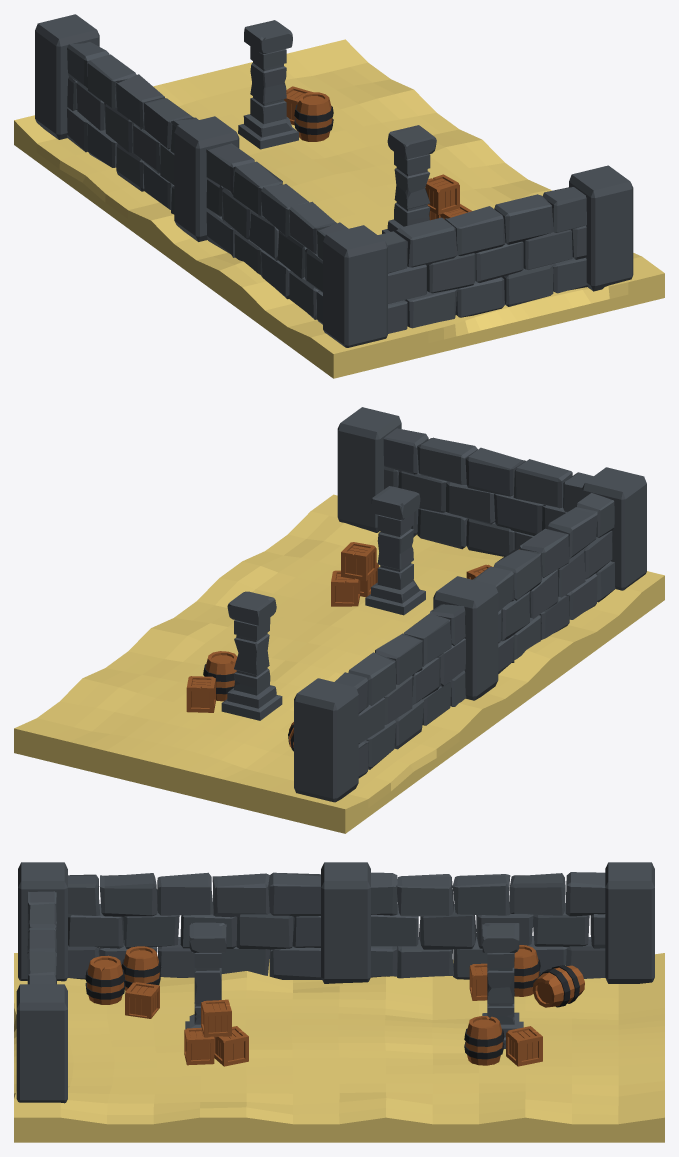
File: Desert Props.fbx
3 views of the same model, one above another, from view 1: azimuth 30°, elevation 25°; view 2: azimuth 150°, elevation 25°; view 3: azimuth 270°, elevation 25° (orthographic).
Parts seen in each view (by area): view 1: Cube.006, Cube.003, Cube.004, Cube.005, Cube, Cylinder.004, Cube.008; view 2: Cube.006, Cube.003, Cube.004, Cube, Cube.005, Cube.008, Cylinder.004, Cube.010, Cube.007; view 3: Cube.006, Cube.003, Cube.004, Cube.005, Cube, Cylinder.003, Cylinder.004, Cylinder, Cylinder.001, Cube.010, Cylinder.002, Cube.001 (+4 smaller).
Part boxes in pixels (left/top/right/bottom): Cube.006: left=14, top=39, right=664, bottom=378; Cube.003: left=35, top=14, right=387, bottom=347; Cube.004: left=378, top=165, right=633, bottom=333; Cube.005: left=238, top=20, right=298, bottom=149; Cube: left=382, top=125, right=436, bottom=233; Cylinder.004: left=294, top=92, right=333, bottom=141; Cube.008: left=425, top=174, right=459, bottom=214; Cube.006: left=14, top=494, right=664, bottom=833; Cube.003: left=294, top=467, right=646, bottom=802; Cube.004: left=337, top=407, right=593, bottom=556; Cube: left=365, top=486, right=425, bottom=615; Cube.005: left=221, top=591, right=282, bottom=720; Cube.008: left=341, top=542, right=376, bottom=581; Cylinder.004: left=203, top=651, right=237, bottom=701; Cube.010: left=186, top=676, right=215, bottom=712; Cube.007: left=331, top=570, right=360, bottom=606; Cube.006: left=14, top=953, right=664, bottom=1142; Cube.003: left=18, top=862, right=654, bottom=983; Cube.004: left=16, top=891, right=67, bottom=1103; Cube.005: left=482, top=923, right=523, bottom=1048; Cube: left=185, top=922, right=226, bottom=1029; Cylinder.003: left=532, top=965, right=584, bottom=1007; Cylinder.004: left=464, top=1016, right=504, bottom=1065; Cylinder: left=85, top=955, right=124, bottom=1004; Cylinder.001: left=121, top=946, right=161, bottom=991; Cube.010: left=506, top=1026, right=542, bottom=1066; Cylinder.002: left=514, top=945, right=540, bottom=996; Cube.001: left=125, top=982, right=159, bottom=1018.
Bounding box in the file's own units: 2817 × 1070 × 4703.
